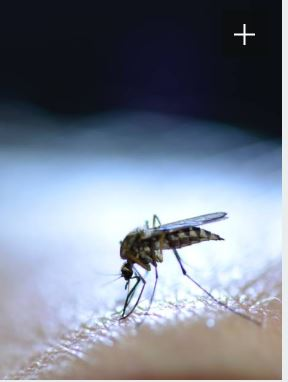dengue_mosquito: (114, 211, 261, 325)
